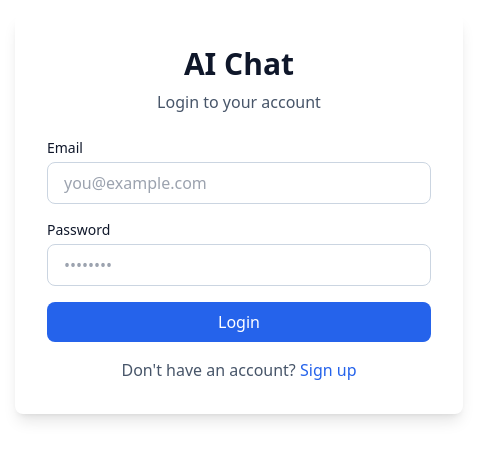
Login › shows error on wrong credentials
Type "test@example.com" into the field with placeholder "you@example.com" at {"x": 239, "y": 183}, box [47,162,431,204]
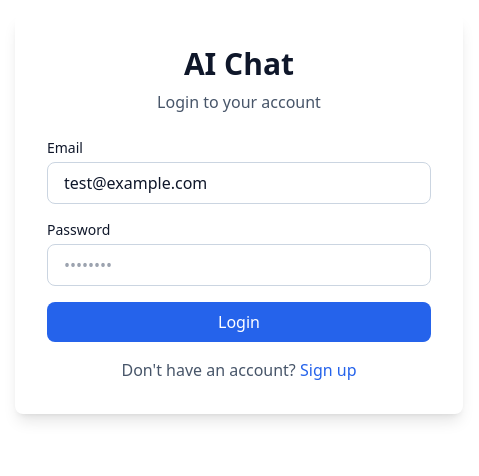
Type "wrong" into the password field with placeholder "••••••••" at {"x": 239, "y": 265}, box [47,244,431,286]
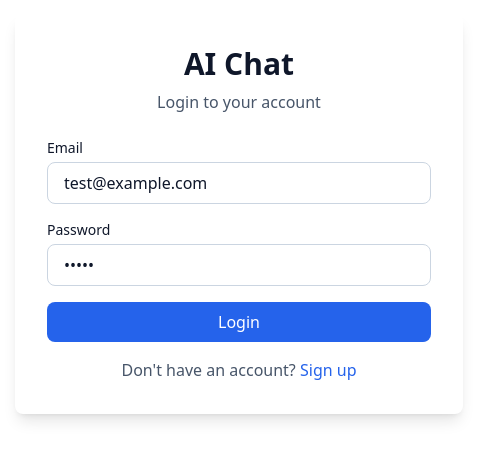
Click the button "Login" at {"x": 239, "y": 322}, box [47,302,431,342]
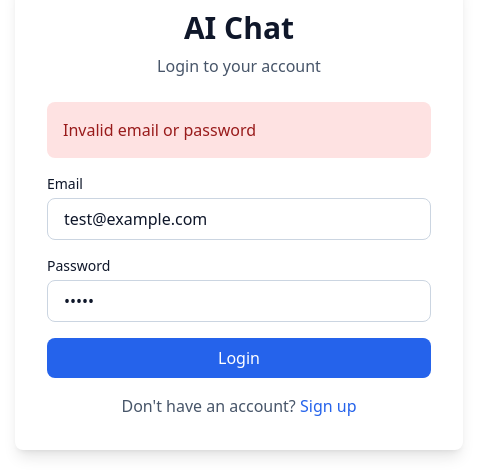
Now the text "Invalid email or password" is shown, box [47,102,431,158]
